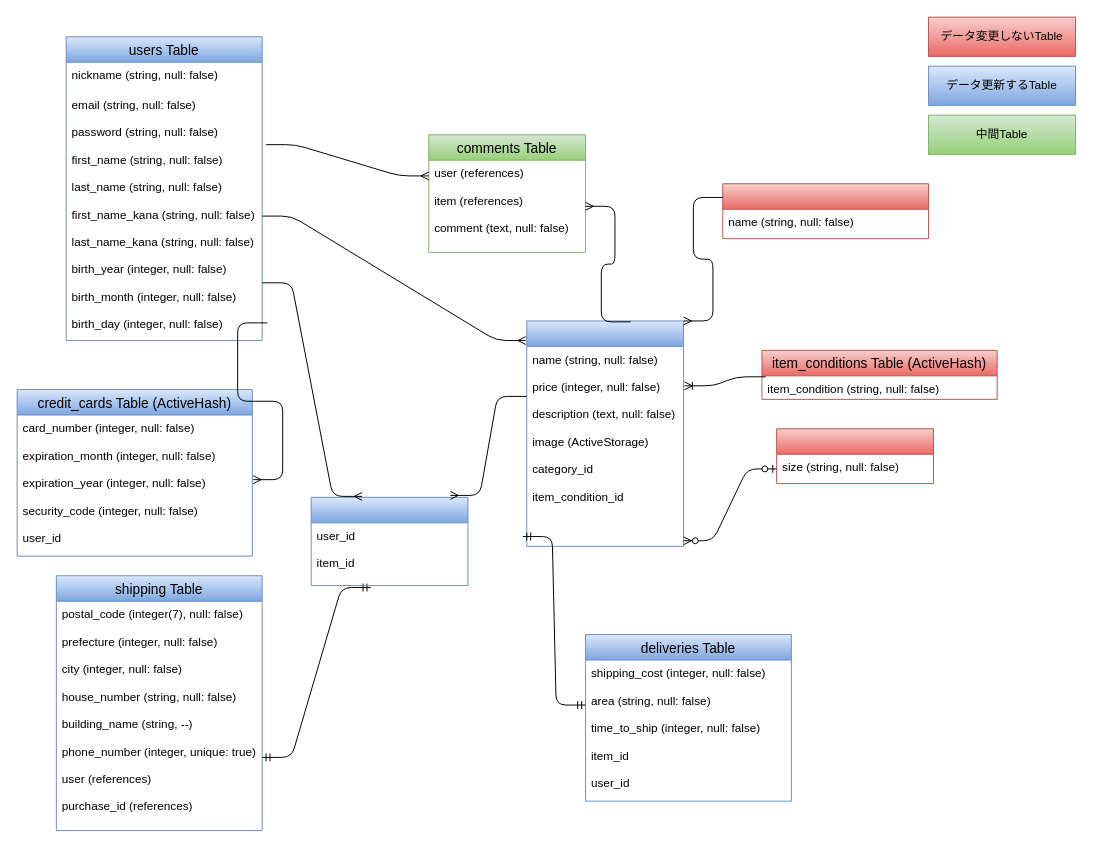
Some shapes in this 1093 by 851 pixel diagram are drawn without their labels. The shapes that lost their labels are listed below. From the top down, each one's box as (x1, y1, x2, y2) in pixels, then its label:
(722, 183, 929, 239): categories Table (ActiveHash)
(526, 320, 684, 546): items Table
(776, 428, 933, 484): size Table (ActiveHash)
(310, 496, 468, 586): purchases Table
